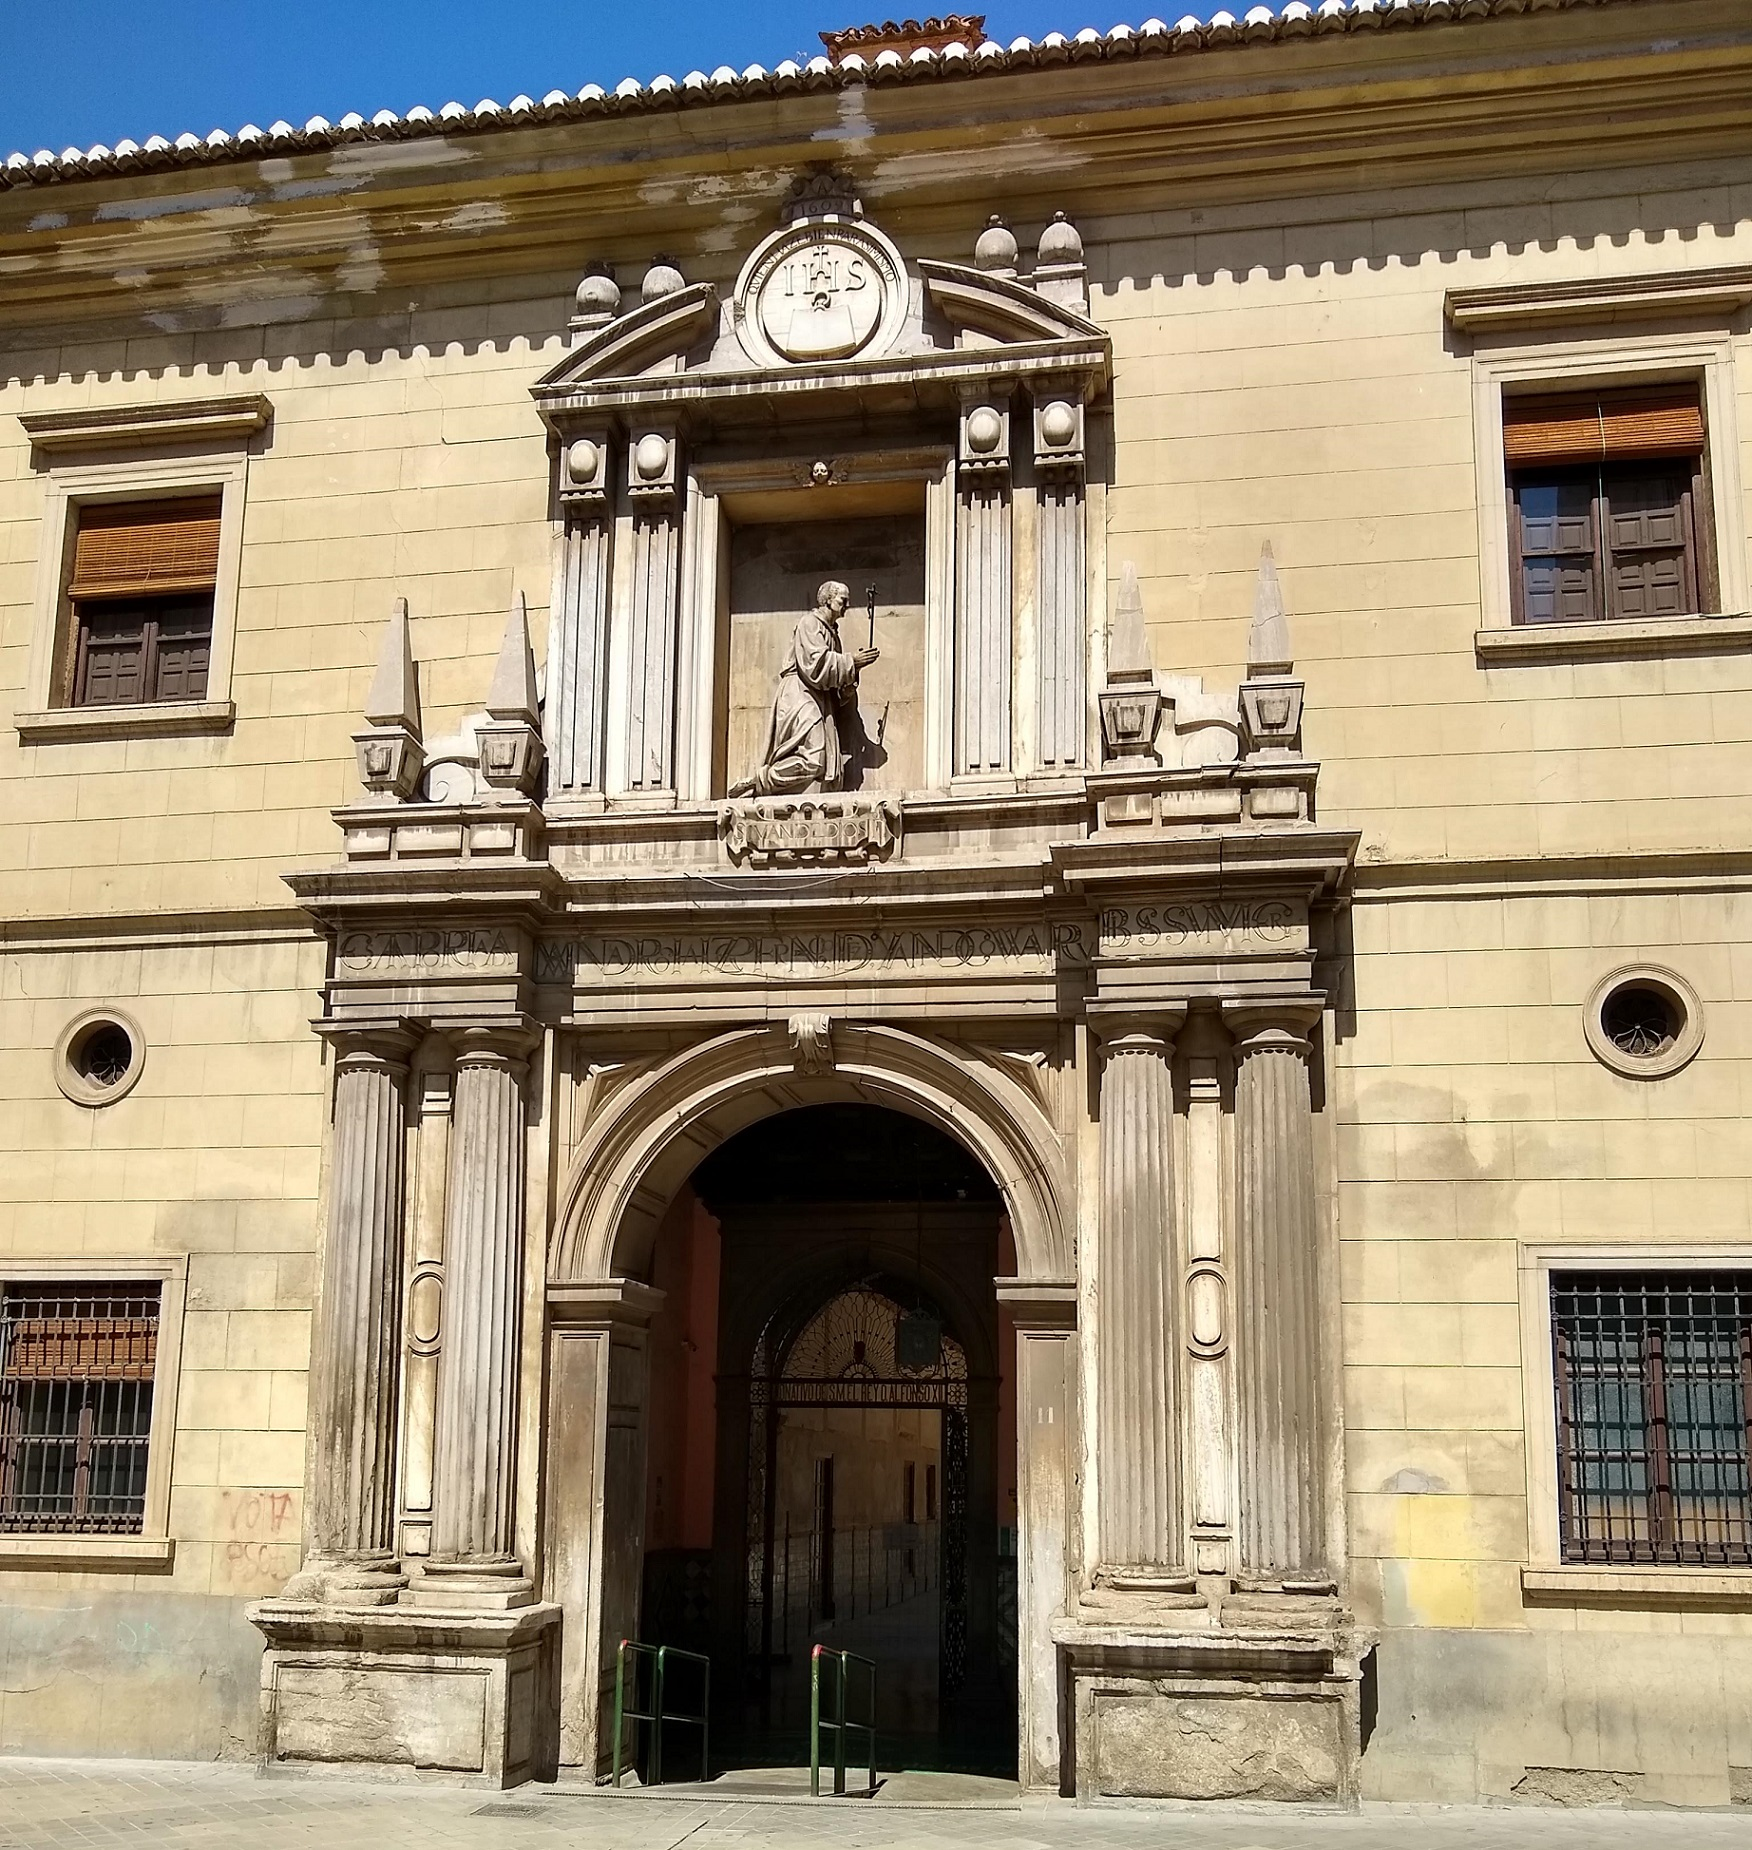arco-medio-punto: (589, 1062, 1041, 1363)
fronton-partido: (525, 253, 1113, 420)
ojo-de-buey: (1582, 961, 1704, 1075), (43, 996, 147, 1099)
vano-adintelado: (677, 433, 957, 806), (1513, 1228, 1752, 1583), (1474, 319, 1737, 635), (36, 436, 255, 719), (2, 1243, 193, 1550)
